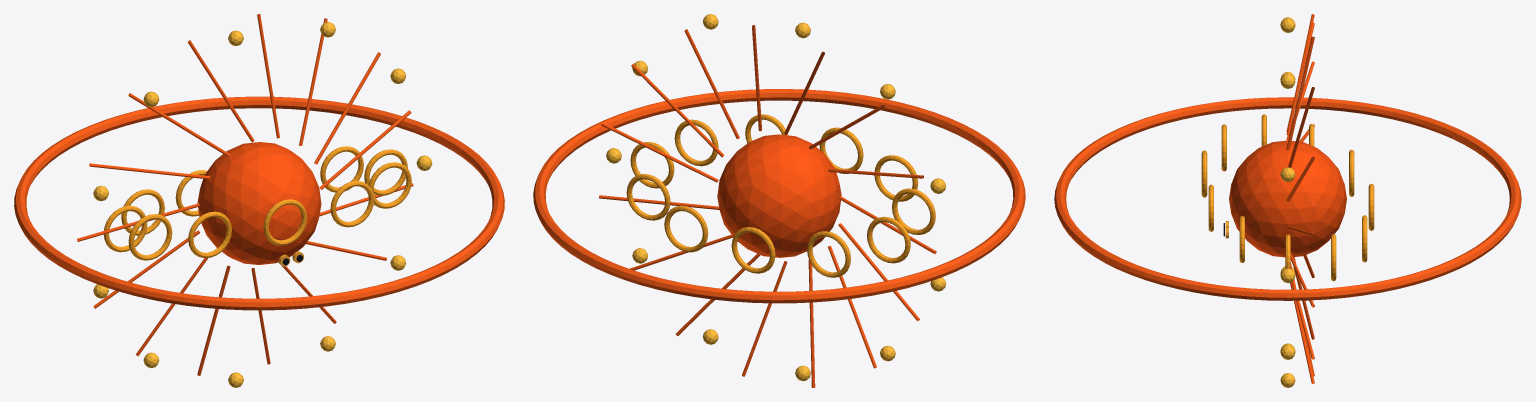
The model's file is 05_L89_SolarWeatherHologramDome.fbx.
3 views of the same model, side by side, from view 1: azimuth 30°, elevation 25°; view 2: azimuth 150°, elevation 25°; view 3: azimuth 270°, elevation 25° (orthographic). The views are drawn at different scales.
Visible parts, largest first — view 1: L87_SolarWeatherHologramDome_Part_0000, L87_SolarWeatherHologramDome_Part_0003, L87_SolarWeatherHologramDome_Part_0001, L87_SolarWeatherHologramDome_Part_0002; view 2: L87_SolarWeatherHologramDome_Part_0000, L87_SolarWeatherHologramDome_Part_0003, L87_SolarWeatherHologramDome_Part_0001, L87_SolarWeatherHologramDome_Part_0002; view 3: L87_SolarWeatherHologramDome_Part_0000, L87_SolarWeatherHologramDome_Part_0003, L87_SolarWeatherHologramDome_Part_0001, L87_SolarWeatherHologramDome_Part_0002.
Boxes of the visible parts, x1,y1,x2,y2 form: L87_SolarWeatherHologramDome_Part_0000: (14, 14, 504, 375); L87_SolarWeatherHologramDome_Part_0003: (197, 142, 321, 264); L87_SolarWeatherHologramDome_Part_0001: (103, 146, 411, 260); L87_SolarWeatherHologramDome_Part_0002: (93, 22, 432, 387); L87_SolarWeatherHologramDome_Part_0000: (533, 25, 1025, 387); L87_SolarWeatherHologramDome_Part_0003: (717, 134, 841, 257); L87_SolarWeatherHologramDome_Part_0001: (626, 114, 935, 277); L87_SolarWeatherHologramDome_Part_0002: (606, 14, 946, 381); L87_SolarWeatherHologramDome_Part_0000: (1054, 14, 1521, 383); L87_SolarWeatherHologramDome_Part_0003: (1229, 140, 1346, 257); L87_SolarWeatherHologramDome_Part_0001: (1201, 114, 1374, 281); L87_SolarWeatherHologramDome_Part_0002: (1280, 17, 1295, 387).
Bounding box in the file's own units: 554 × 444 × 554.
